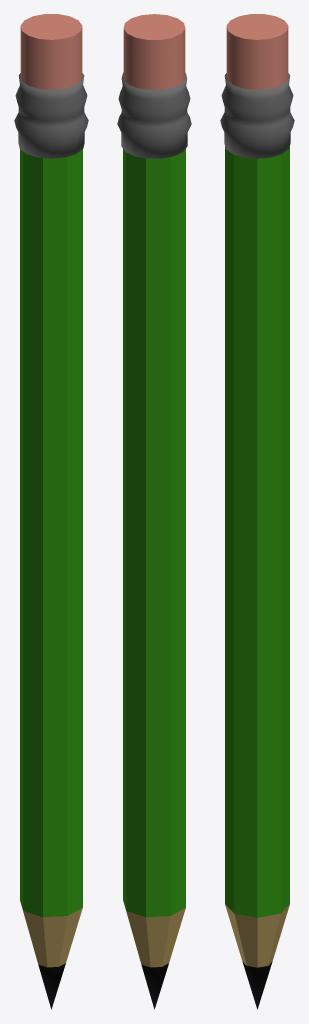
The model's file is Pencil_02.fbx.
3 renders of one model, left to right at view 1: azimuth 30°, elevation 25°; view 2: azimuth 210°, elevation 25°; view 3: azimuth 270°, elevation 25°, orthographic.
Parts seen in each view (by area): view 1: pCylinder5, pCylinder4, pCylinder3; view 2: pCylinder5, pCylinder4, pCylinder3; view 3: pCylinder5, pCylinder4, pCylinder3.
Boxes of the visible parts, bbox=[...] form: pCylinder5: bbox=[20, 149, 82, 1009]; pCylinder4: bbox=[14, 73, 88, 158]; pCylinder3: bbox=[20, 14, 82, 89]; pCylinder5: bbox=[123, 149, 185, 1009]; pCylinder4: bbox=[117, 72, 191, 158]; pCylinder3: bbox=[123, 14, 185, 89]; pCylinder5: bbox=[225, 146, 289, 1009]; pCylinder4: bbox=[220, 73, 294, 158]; pCylinder3: bbox=[226, 14, 288, 89].
Bounding box in the file's own units: 0.9204 × 13.49 × 0.9255.
